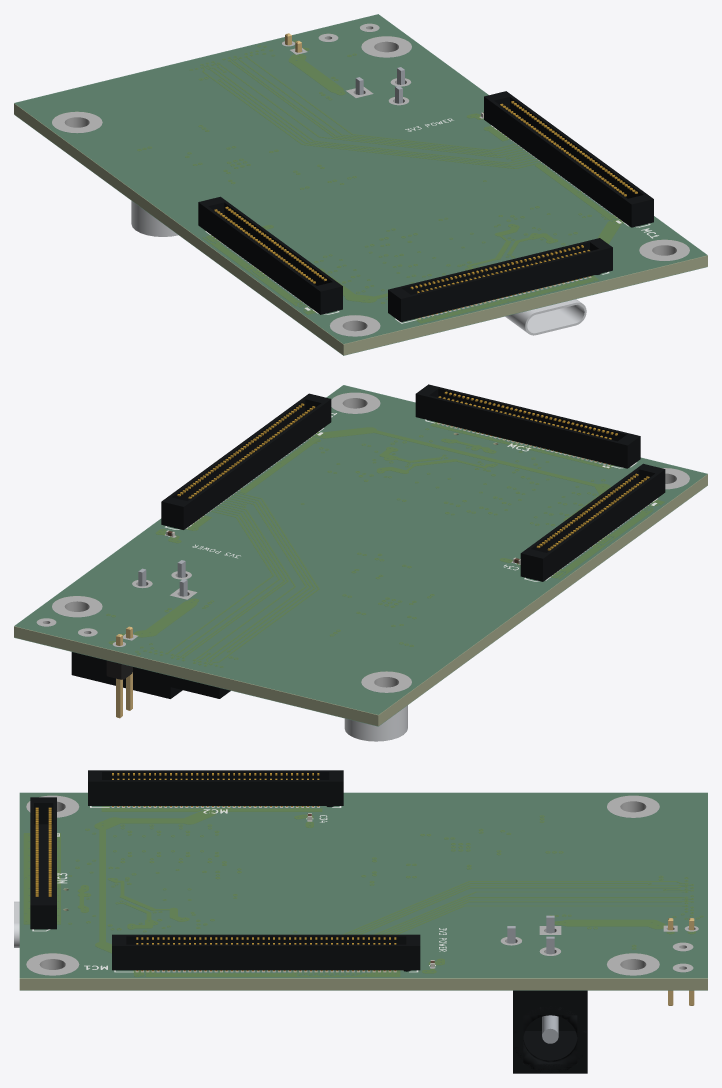
Rendered from Carrier_R15_Interactive.glb.
3 views of the same model, one above another, from view 1: azimuth 30°, elevation 25°; view 2: azimuth 150°, elevation 25°; view 3: azimuth 270°, elevation 25° (orthographic). The views are drawn at different scales.
Parts seen in each view (by area): view 1: CARRIER_R15_PUBLIC_REVIEW_soldermask (×2), CARRIER_R15_PUBLIC_REVIEW_PCB, MC3, MC1, MC2, CARRIER_R15_PUBLIC_REVIEW_copper, CARRIER_R15_PUBLIC_REVIEW_pad, J500, C5; view 2: CARRIER_R15_PUBLIC_REVIEW_soldermask (×2), CARRIER_R15_PUBLIC_REVIEW_PCB, MC3, MC1, MC2, CARRIER_R15_PUBLIC_REVIEW_copper, CARRIER_R15_PUBLIC_REVIEW_pad, J4, C5, J1, JP1; view 3: CARRIER_R15_PUBLIC_REVIEW_soldermask (×2), CARRIER_R15_PUBLIC_REVIEW_PCB, MC1, MC2, J4, CARRIER_R15_PUBLIC_REVIEW_copper, CARRIER_R15_PUBLIC_REVIEW_pad, MC3, CARRIER_R15_PUBLIC_REVIEW_silkscreen.
Boxes of the visible parts, <box> form: CARRIER_R15_PUBLIC_REVIEW_soldermask (×2): <box>14,14,707,355</box>; CARRIER_R15_PUBLIC_REVIEW_PCB: <box>14,15,707,355</box>; MC3: <box>388,238,612,322</box>; MC1: <box>484,91,653,227</box>; MC2: <box>198,196,342,314</box>; CARRIER_R15_PUBLIC_REVIEW_copper: <box>143,46,622,322</box>; CARRIER_R15_PUBLIC_REVIEW_pad: <box>52,23,689,336</box>; J500: <box>505,299,586,335</box>; C5: <box>131,201,178,236</box>; CARRIER_R15_PUBLIC_REVIEW_soldermask (×2): <box>14,385,707,726</box>; CARRIER_R15_PUBLIC_REVIEW_PCB: <box>14,386,707,726</box>; MC3: <box>415,384,640,468</box>; MC1: <box>161,393,331,529</box>; MC2: <box>520,463,665,581</box>; CARRIER_R15_PUBLIC_REVIEW_copper: <box>107,422,663,665</box>; CARRIER_R15_PUBLIC_REVIEW_pad: <box>36,392,689,692</box>; J4: <box>71,560,187,698</box>; C5: <box>344,705,407,741</box>; J1: <box>133,667,230,698</box>; JP1: <box>106,626,132,718</box>; CARRIER_R15_PUBLIC_REVIEW_soldermask (×2): <box>19,792,707,990</box>; CARRIER_R15_PUBLIC_REVIEW_PCB: <box>19,793,707,990</box>; MC1: <box>112,934,420,971</box>; MC2: <box>88,770,343,806</box>; J4: <box>507,915,587,1073</box>; CARRIER_R15_PUBLIC_REVIEW_copper: <box>24,806,699,976</box>; CARRIER_R15_PUBLIC_REVIEW_pad: <box>26,795,698,975</box>; MC3: <box>30,797,56,929</box>; CARRIER_R15_PUBLIC_REVIEW_silkscreen: <box>32,806,446,972</box>.
Size of the model in its own units: 0.053 by 0.0163 by 0.0837.
